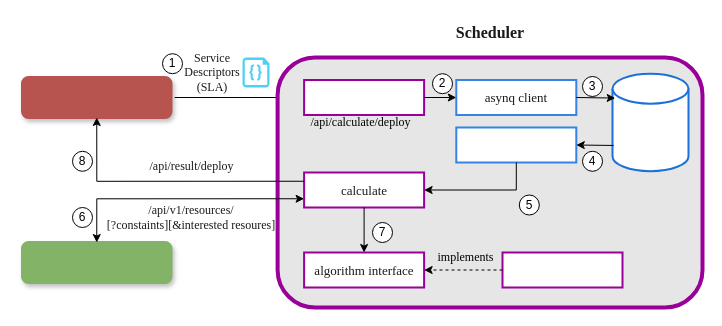
This 722x326 diagram has some shape labels left out. Each missing label, with the centre of its shape:
"API" belongs at pixel 364 97.
"asynq server" belongs at pixel 516 144.
"Orchestrator" belongs at pixel 97 99.
"redis task queue" belongs at pixel 650 122.
"Resource Abstractor" belongs at pixel 97 263.
"scheduling algorithm" belongs at pixel 562 269.
